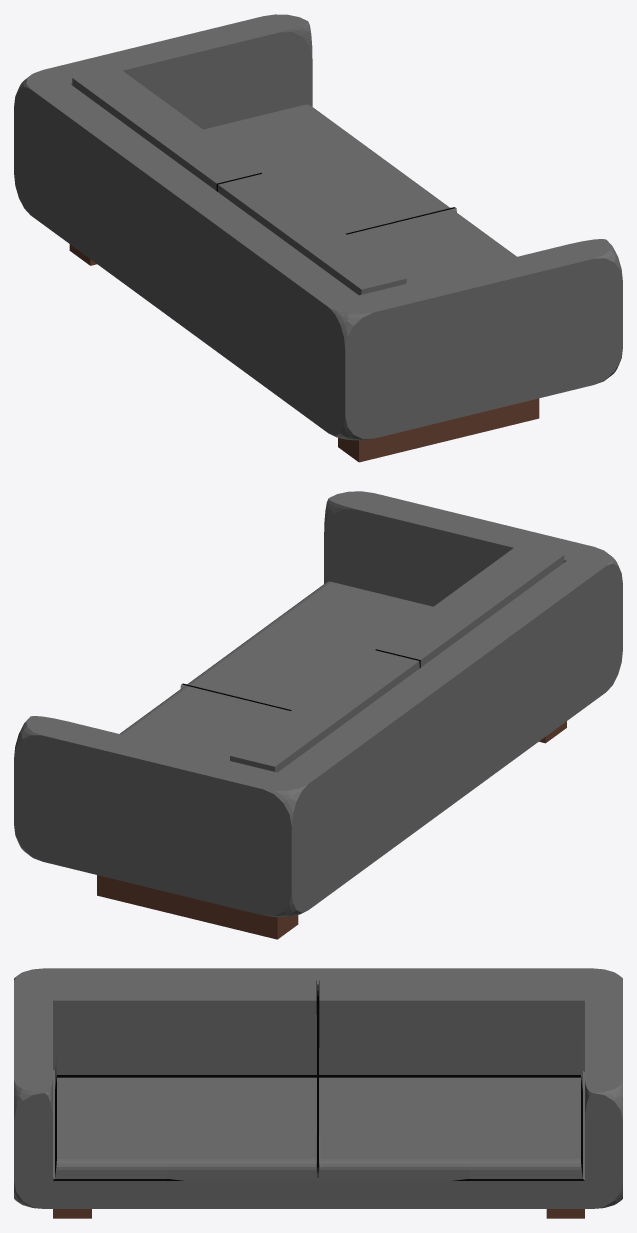
The model's file is Couch_01.fbx.
3 renders of one model, top to bottom at view 1: azimuth 30°, elevation 25°; view 2: azimuth 150°, elevation 25°; view 3: azimuth 270°, elevation 25°, orthographic. The views are drawn at different scales.
Parts seen in each view (by area): view 1: couch_01; view 2: couch_01; view 3: couch_01.
Boxes of the visible parts, box(x1,y1,x2,y2) form: couch_01: box(14, 14, 622, 462); couch_01: box(14, 491, 622, 939); couch_01: box(14, 968, 622, 1218).
Size of the model in its own units: 890 by 527 by 1839.
